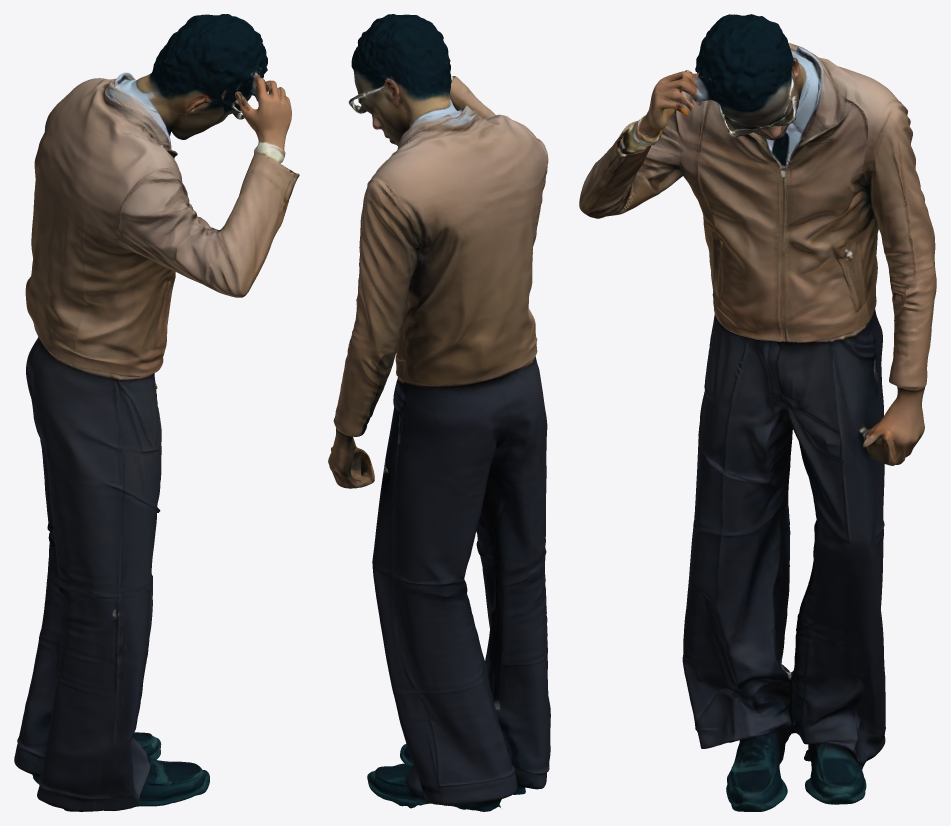
Rendered from ian_coffee_mobile.glb.
3 views of the same model, side by side, from view 1: azimuth 30°, elevation 25°; view 2: azimuth 150°, elevation 25°; view 3: azimuth 270°, elevation 25° (orthographic). The views are drawn at different scales.
Visible parts, largest first — view 1: tripo_node_9da48b22-2942-4389-bb64-31bd81bdbbc7; view 2: tripo_node_9da48b22-2942-4389-bb64-31bd81bdbbc7; view 3: tripo_node_9da48b22-2942-4389-bb64-31bd81bdbbc7.
Boxes of the visible parts, x1,y1,x2,y2 form: tripo_node_9da48b22-2942-4389-bb64-31bd81bdbbc7: (14,14,299,811); tripo_node_9da48b22-2942-4389-bb64-31bd81bdbbc7: (328,14,550,811); tripo_node_9da48b22-2942-4389-bb64-31bd81bdbbc7: (579,14,936,811).
Size of the model in its own units: 0.2877 by 1 by 0.4051.
Materials: 1 (1 with a texture image).
